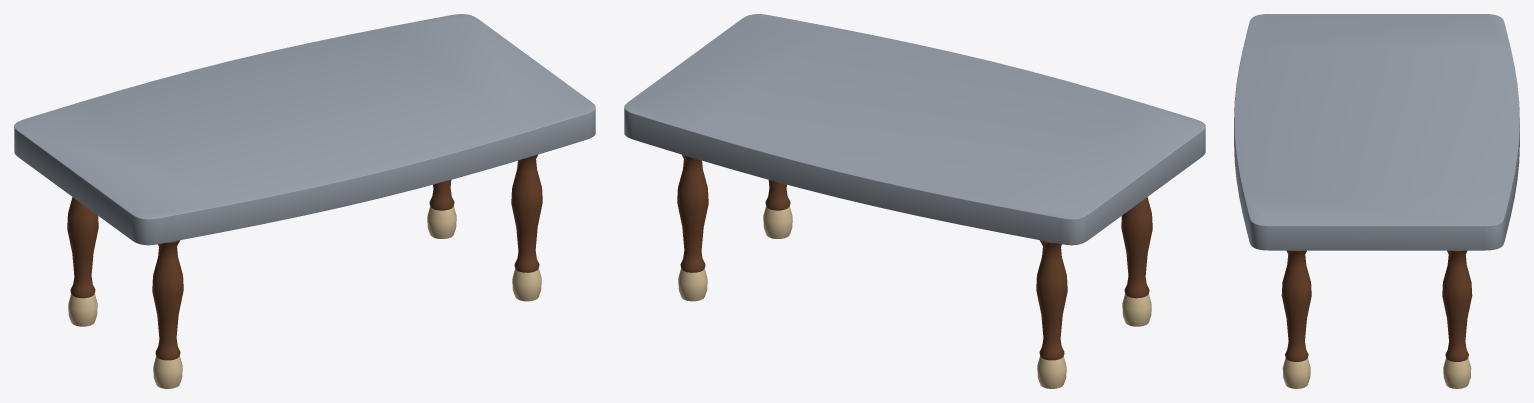
The model's file is mesa_centro_tampo_curvo_cinza.glb.
The picture shows the model from 3 angles, left to right: view 1: azimuth 30°, elevation 25°; view 2: azimuth 150°, elevation 25°; view 3: azimuth 270°, elevation 25°; orthographic projection. The views are drawn at different scales.
Visible parts, largest first — view 1: mesa_centro_tampo_curvo_cinza; view 2: mesa_centro_tampo_curvo_cinza; view 3: mesa_centro_tampo_curvo_cinza.
Boxes of the visible parts, x1,y1,x2,y2 form: mesa_centro_tampo_curvo_cinza: (14,14,595,388); mesa_centro_tampo_curvo_cinza: (624,14,1205,388); mesa_centro_tampo_curvo_cinza: (1234,14,1519,388).
Size of the model in its own units: 1 by 0.4 by 0.57.
1 material, 1 textured.
